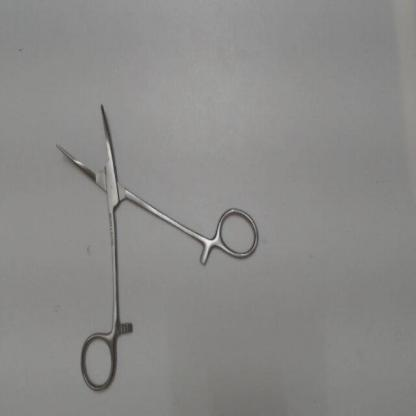Crile Artery Forceps: (48, 94, 261, 397)
